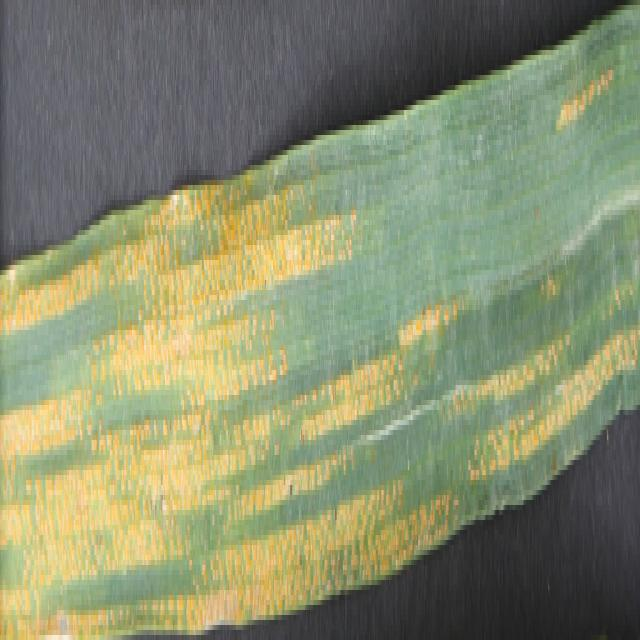leaf rust: (1, 50, 634, 640)
